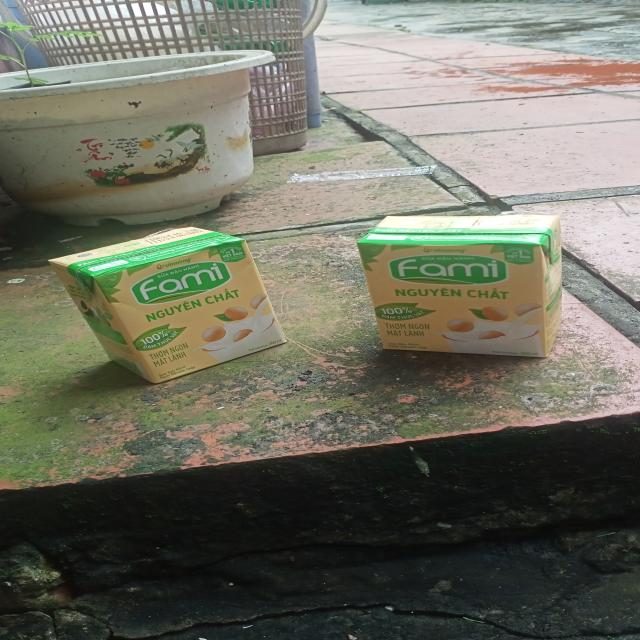Fami: (54, 225, 283, 383), (358, 215, 563, 359)
